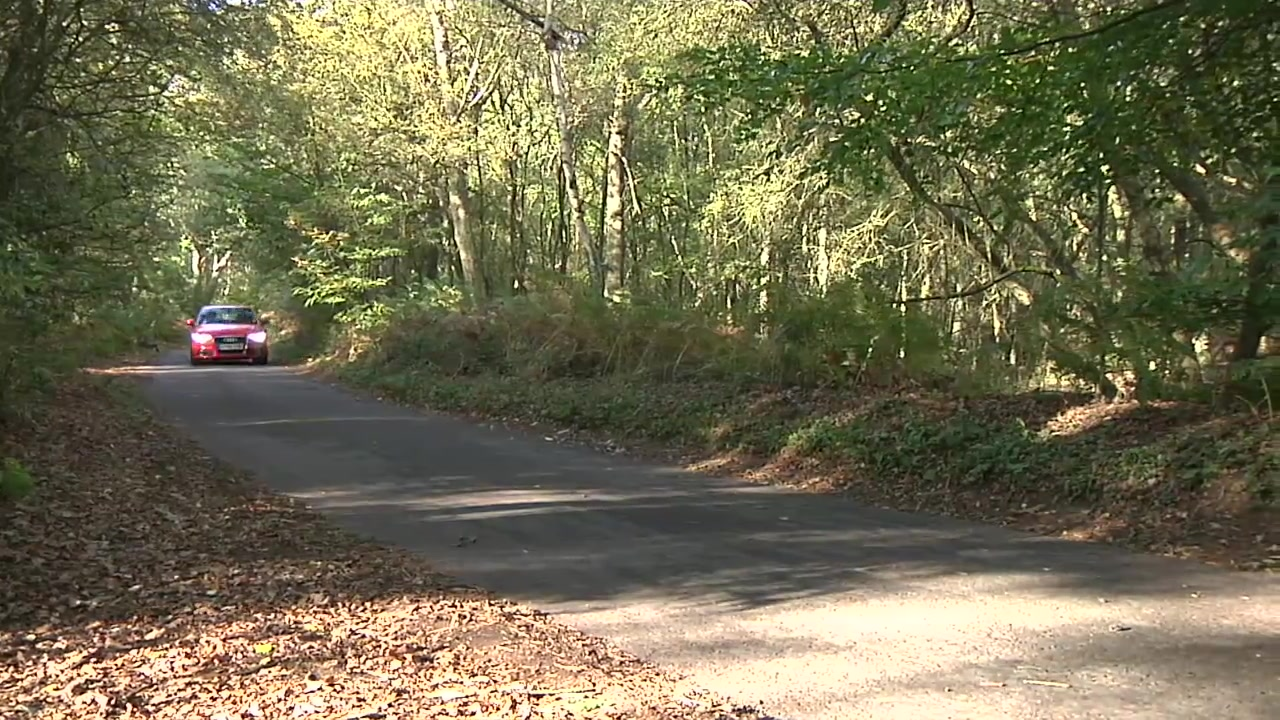car: (183, 305, 279, 370)
